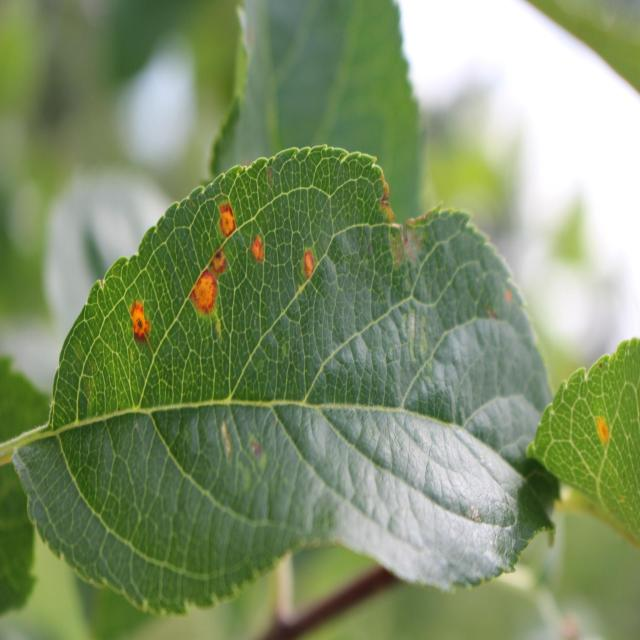Rust: (120, 290, 162, 364), (183, 257, 217, 330), (583, 398, 620, 459), (296, 236, 324, 299), (204, 194, 242, 240), (248, 217, 268, 293), (206, 246, 232, 284)
